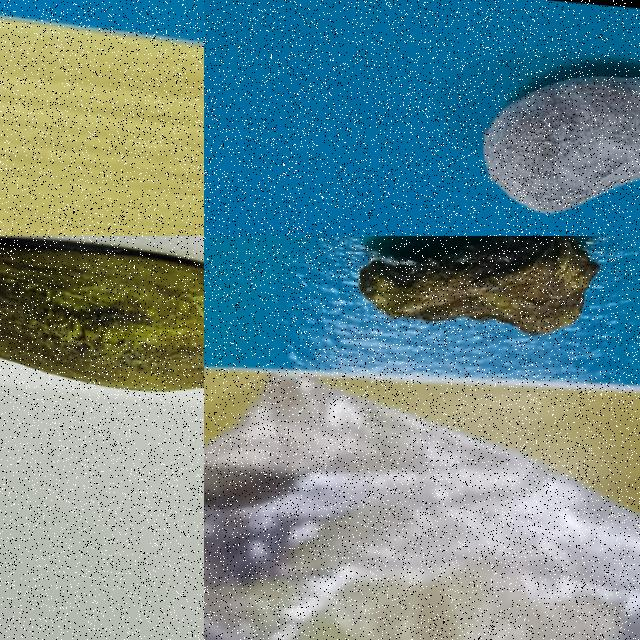Fine_cocoabeans: (416, 0, 639, 235), (0, 236, 203, 407)
Flat_cocoabeans: (288, 236, 639, 377)
